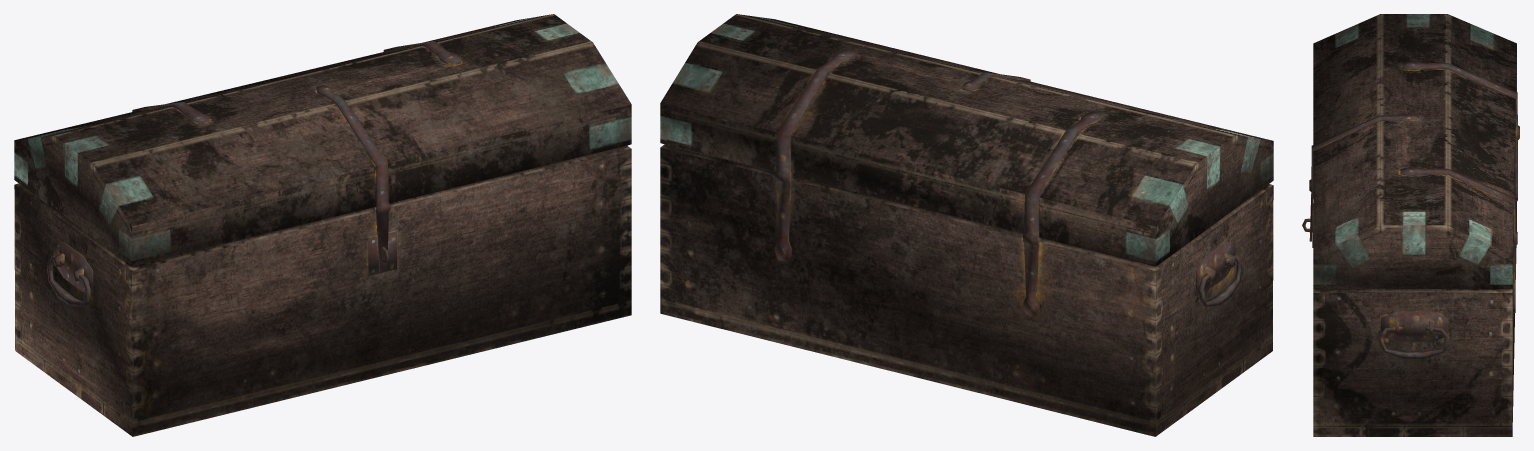
The model's file is Kiste 2.FBX.
3 renders of one model, left to right at view 1: azimuth 30°, elevation 25°; view 2: azimuth 150°, elevation 25°; view 3: azimuth 270°, elevation 25°, orthographic. The views are drawn at different scales.
Visible parts, largest first — view 1: Kiste002; view 2: Kiste002; view 3: Kiste002.
Boxes of the visible parts, x1=… form: Kiste002: x1=14, y1=14, x2=631, y2=436; Kiste002: x1=660, y1=14, x2=1273, y2=436; Kiste002: x1=1302, y1=14, x2=1519, y2=436.
Bounding box in the file's own units: 129 × 58.53 × 54.11.
